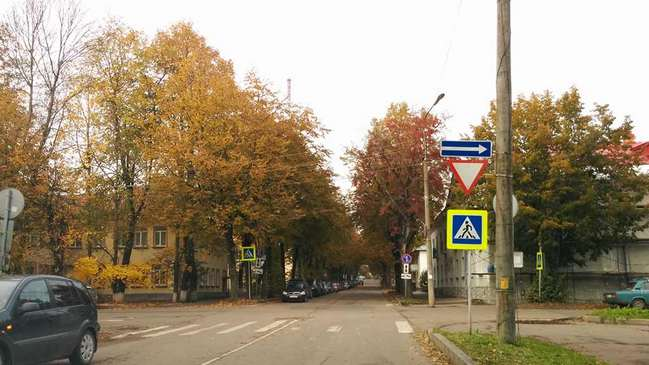One-Way Traffic: (441, 141, 491, 156)
Pedestrian Crossing: (452, 215, 482, 244)
